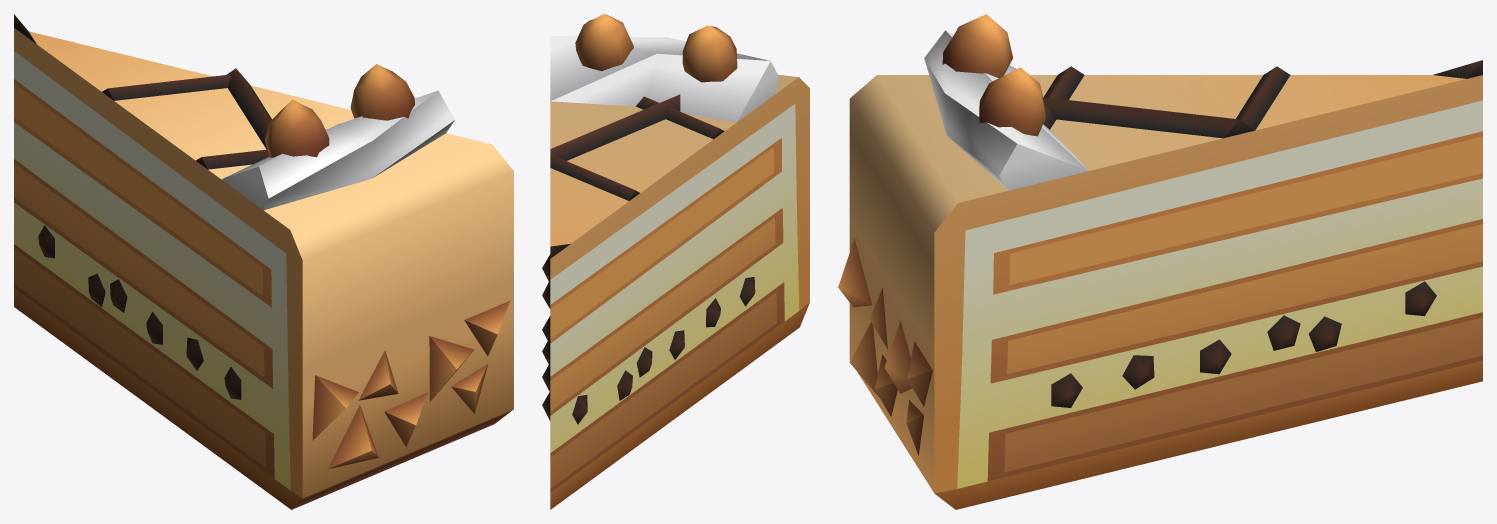
Rendered from m_MarzipanCake01_Slice03.fbx.
The picture shows the model from 3 angles, left to right: view 1: azimuth 30°, elevation 25°; view 2: azimuth 150°, elevation 25°; view 3: azimuth 270°, elevation 25°; orthographic projection. The views are drawn at different scales.
Visible parts, largest first — view 1: m_MarzipanCake01_Slice03; view 2: m_MarzipanCake01_Slice03; view 3: m_MarzipanCake01_Slice03.
Boxes of the visible parts, x1,y1,x2,y2 form: m_MarzipanCake01_Slice03: (14, 14, 513, 509); m_MarzipanCake01_Slice03: (542, 14, 809, 509); m_MarzipanCake01_Slice03: (838, 14, 1482, 509).
Bounding box in the file's own units: 7.23 × 9.64 × 14.26.
